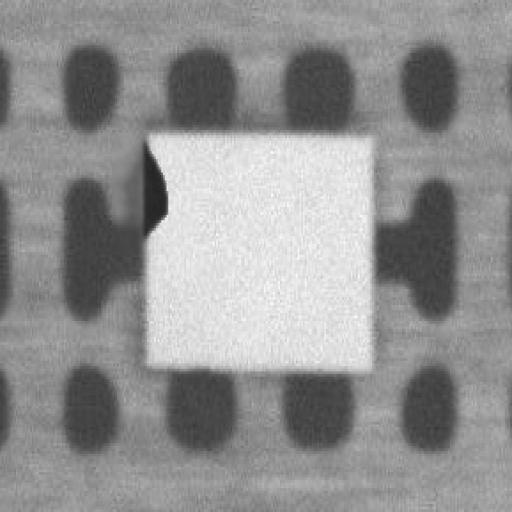DIE_BROKEN: (135, 132, 170, 242)
